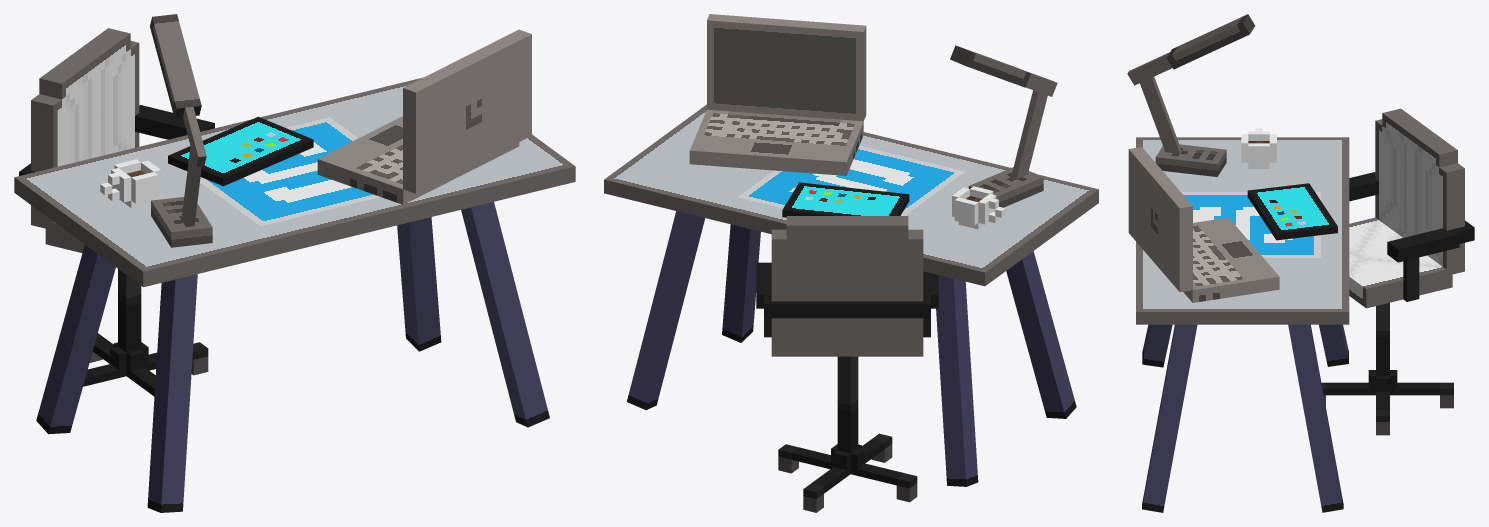
File: d482c522-a618-4578-89d4-6a29acf67223.gltf
The picture shows the model from 3 angles, left to right: view 1: azimuth 30°, elevation 25°; view 2: azimuth 150°, elevation 25°; view 3: azimuth 270°, elevation 25°; orthographic projection. The views are drawn at different scales.
Visible parts, largest first — view 1: Table-Local, NotebookDisplay-Local, Seat-Local, Table leg4-Local, Table leg1-Local, Table leg2-Local, Notebook-Local, note-Local, Leg-Local, Table leg3-Local, Lamp3-Local, Cup-Local (+2 smaller); view 2: Table-Local, Seat-Local, NotebookDisplay-Local, Notebook-Local, Leg-Local, Table leg2-Local, Table leg3-Local, Table leg4-Local, Table leg1-Local, note-Local, Lamp3-Local, Cup-Local (+2 smaller); view 3: Table-Local, Seat-Local, NotebookDisplay-Local, Notebook-Local, Table leg1-Local, Table leg3-Local, Leg-Local, note-Local, Lamp3-Local, Lamp1-Local, Lamp2-Local, Cup-Local (+2 smaller).
Part boxes in pixels (x1,y1,x2,y2): Table-Local: (14, 77, 575, 287); NotebookDisplay-Local: (403, 29, 531, 193); Seat-Local: (19, 28, 214, 252); Table leg4-Local: (147, 274, 197, 512); Table leg1-Local: (461, 202, 549, 427); Table leg2-Local: (36, 245, 115, 434); Notebook-Local: (317, 116, 519, 204); note-Local: (168, 116, 313, 186); Leg-Local: (83, 269, 208, 396); Table leg3-Local: (397, 217, 441, 351); Lamp3-Local: (150, 14, 206, 166); Cup-Local: (100, 159, 161, 208); Table-Local: (604, 104, 1098, 286); Seat-Local: (756, 216, 938, 356); NotebookDisplay-Local: (707, 14, 866, 121); Notebook-Local: (689, 109, 863, 175); Leg-Local: (778, 356, 917, 512); Table leg2-Local: (936, 275, 978, 486); Table leg3-Local: (627, 211, 705, 409); Table leg4-Local: (1006, 251, 1076, 418); Table leg1-Local: (722, 224, 760, 342); note-Local: (782, 182, 909, 217); Lamp3-Local: (950, 45, 1057, 96); Cup-Local: (952, 186, 1005, 229); Table-Local: (1136, 137, 1349, 324); Seat-Local: (1349, 108, 1474, 308); NotebookDisplay-Local: (1128, 147, 1192, 291); Notebook-Local: (1183, 217, 1279, 302); Table leg1-Local: (1142, 324, 1197, 512); Table leg3-Local: (1288, 324, 1343, 512); Leg-Local: (1321, 303, 1453, 435); note-Local: (1247, 183, 1337, 240); Lamp3-Local: (1127, 14, 1255, 85); Lamp1-Local: (1155, 144, 1226, 176); Lamp2-Local: (1136, 69, 1181, 153); Cup-Local: (1241, 128, 1276, 168).
Bounding box in the file's own units: 58 × 56.95 × 48.81.
Materials: 18 (18 with a texture image).
